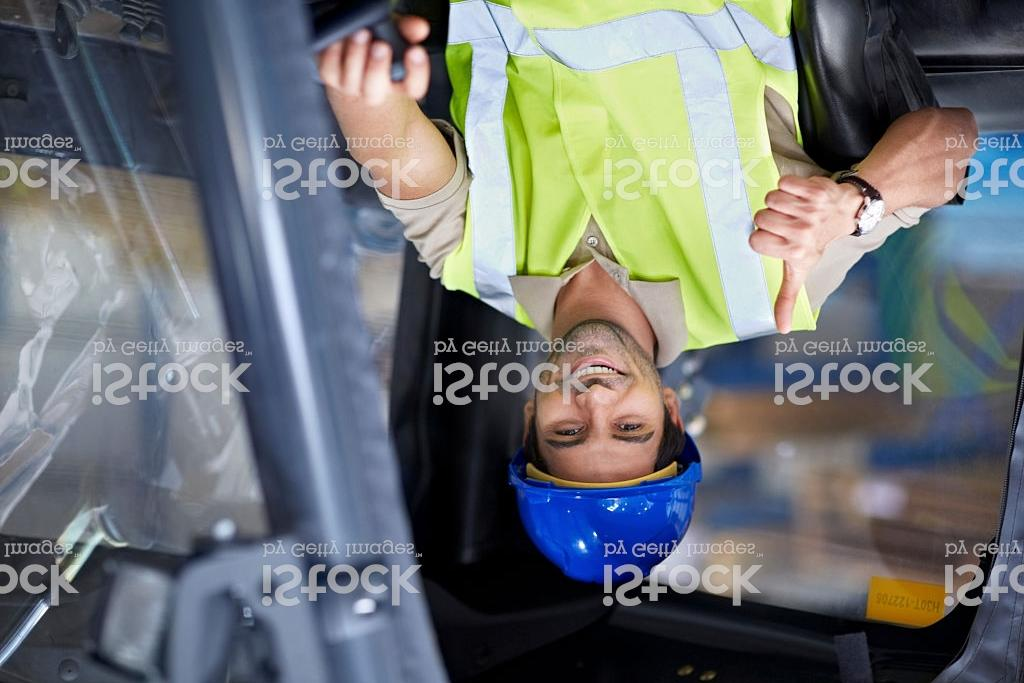thumbsdown: (746, 172, 830, 336)
